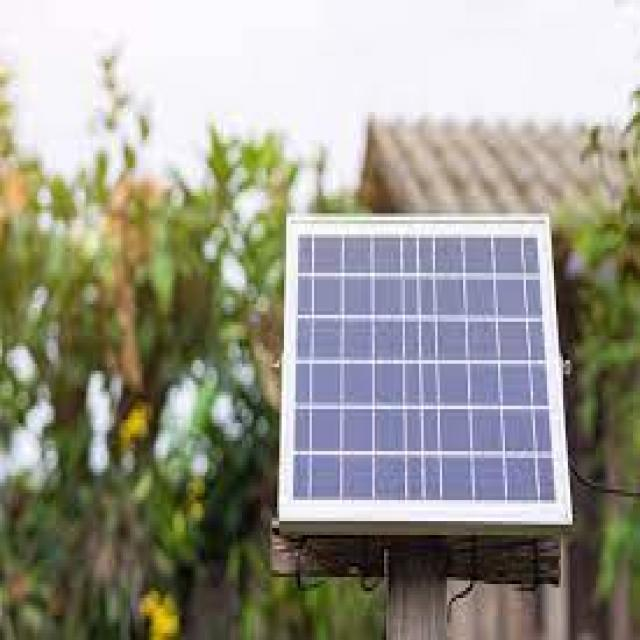no faulty: (288, 215, 571, 521)
